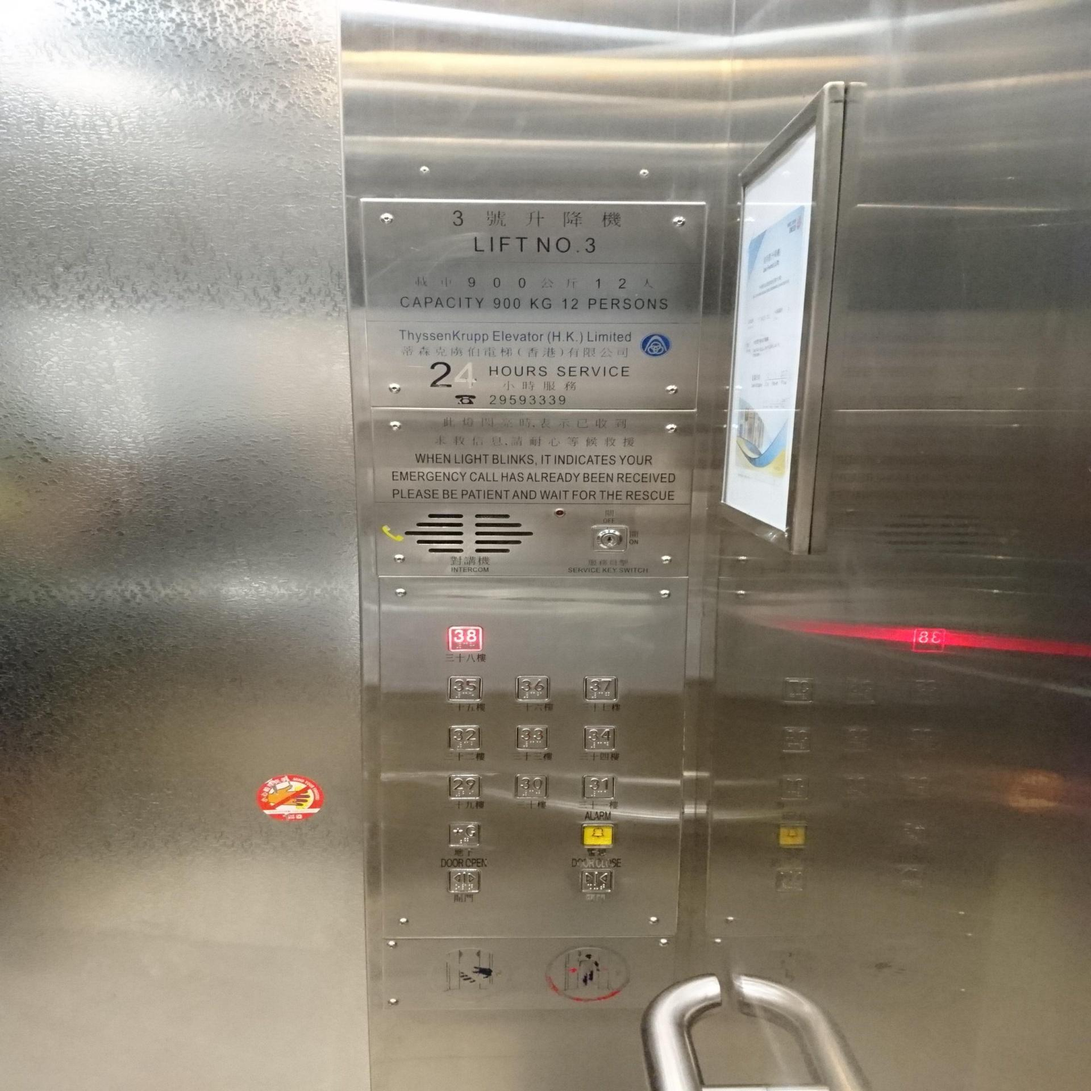29: (447, 773, 481, 799)
30: (515, 773, 548, 798)
31: (581, 773, 615, 799)
32: (447, 724, 482, 751)
33: (515, 723, 548, 751)
34: (582, 724, 616, 751)
35: (447, 674, 482, 702)
36: (514, 673, 549, 702)
37: (583, 674, 617, 702)
38: (447, 625, 482, 652)
alarm: (581, 822, 615, 848)
close: (580, 868, 612, 893)
keyhole: (590, 524, 627, 551)
open: (447, 868, 481, 894)
unknown: (448, 821, 481, 847)
